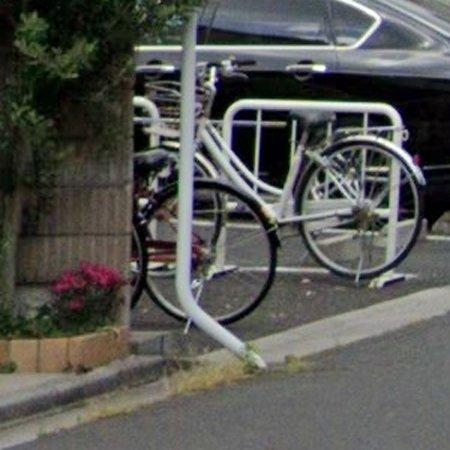bicycles: (197, 63, 427, 280), (193, 180, 278, 324), (130, 149, 189, 320)
